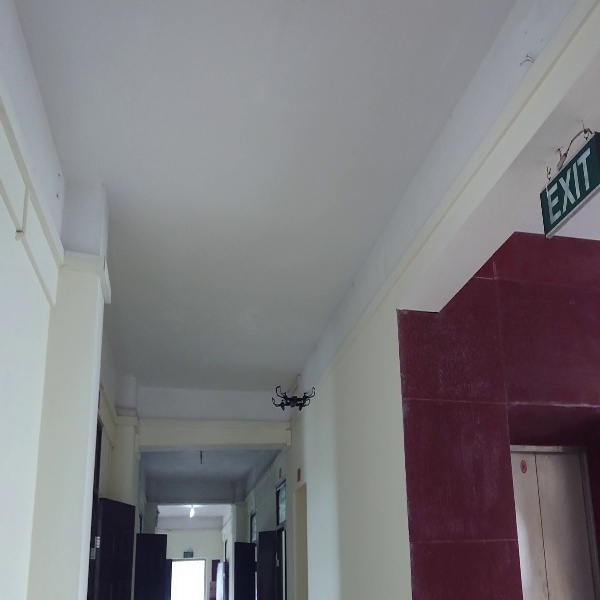drone: (270, 382, 316, 413)
